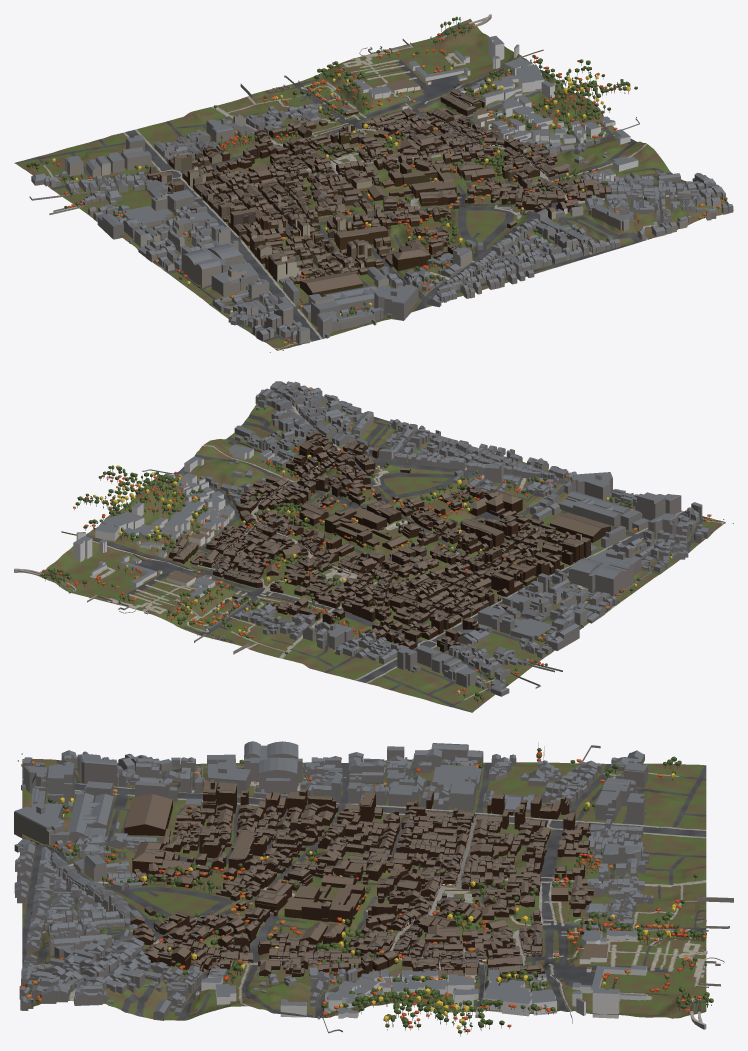
File: world_art.glb
The picture shows the model from 3 angles, top to bottom: view 1: azimuth 30°, elevation 25°; view 2: azimuth 150°, elevation 25°; view 3: azimuth 270°, elevation 25°; orthographic projection. The views are drawn at different scales.
Parts seen in each view (by area): view 1: Terrain_GSI_DEM5A, Buildings_s02, Buildings_s15, Buildings_s55, Buildings_s35, Buildings_s14, Buildings_s42, Buildings_s24, Buildings_s13, Buildings_s03, Buildings_s25, Buildings_s22 (+25 smaller); view 2: Terrain_GSI_DEM5A, Buildings_s02, Buildings_s44, Buildings_s42, Buildings_s03, Buildings_s15, Buildings_s14, Buildings_s24, Buildings_s55, Buildings_s12, Buildings_s05, Buildings_s22 (+25 smaller); view 3: Terrain_GSI_DEM5A, Buildings_s02, Buildings_s42, Buildings_s44, Buildings_s14, Buildings_s55, Buildings_s15, Buildings_s03, Buildings_s12, Buildings_s13, Buildings_s24, Buildings_s22 (+26 smaller).
Part boxes in pixels (x1,y1,x2,y2): Terrain_GSI_DEM5A: [14, 18, 733, 350]; Buildings_s02: [97, 189, 219, 257]; Buildings_s15: [317, 267, 418, 338]; Buildings_s55: [617, 172, 733, 237]; Buildings_s35: [465, 218, 574, 284]; Buildings_s14: [265, 243, 371, 296]; Buildings_s42: [396, 109, 524, 164]; Buildings_s24: [334, 213, 460, 271]; Buildings_s13: [234, 205, 329, 263]; Buildings_s03: [146, 225, 246, 287]; Buildings_s25: [380, 247, 504, 307]; Buildings_s22: [260, 155, 371, 209]; Terrain_GSI_DEM5A: [34, 396, 725, 712]; Buildings_s02: [478, 588, 599, 650]; Buildings_s44: [286, 431, 393, 497]; Buildings_s42: [189, 504, 303, 569]; Buildings_s03: [529, 558, 633, 617]; Buildings_s15: [532, 472, 681, 526]; Buildings_s14: [506, 513, 610, 565]; Buildings_s24: [423, 483, 529, 549]; Buildings_s55: [255, 381, 361, 435]; Buildings_s12: [404, 569, 514, 619]; Buildings_s05: [620, 492, 711, 557]; Buildings_s22: [344, 551, 444, 602]; Terrain_GSI_DEM5A: [22, 759, 706, 1020]; Buildings_s02: [349, 743, 483, 810]; Buildings_s42: [348, 924, 491, 982]; Buildings_s44: [129, 910, 256, 976]; Buildings_s14: [124, 779, 255, 853]; Buildings_s55: [19, 952, 146, 1010]; Buildings_s15: [14, 765, 157, 849]; Buildings_s03: [244, 741, 364, 803]; Buildings_s12: [359, 790, 486, 851]; Buildings_s13: [247, 788, 363, 845]; Buildings_s24: [132, 828, 266, 888]; Buildings_s22: [362, 841, 479, 896].
Bounding box in the file's own units: 696 × 63.4 × 632.
Materials: 10 (5 with a texture image).
